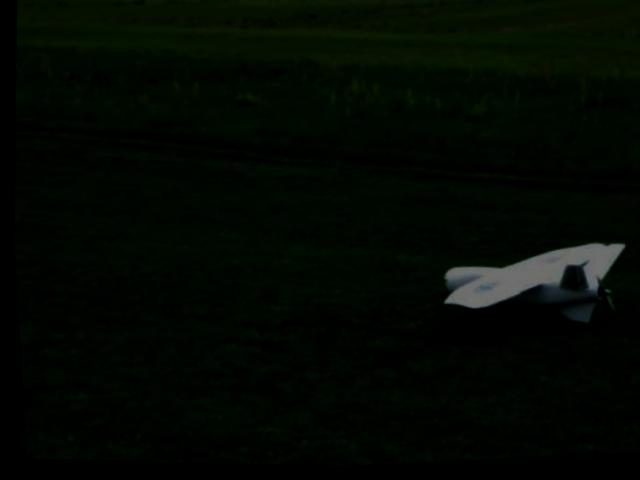uav: (432, 230, 628, 332)
